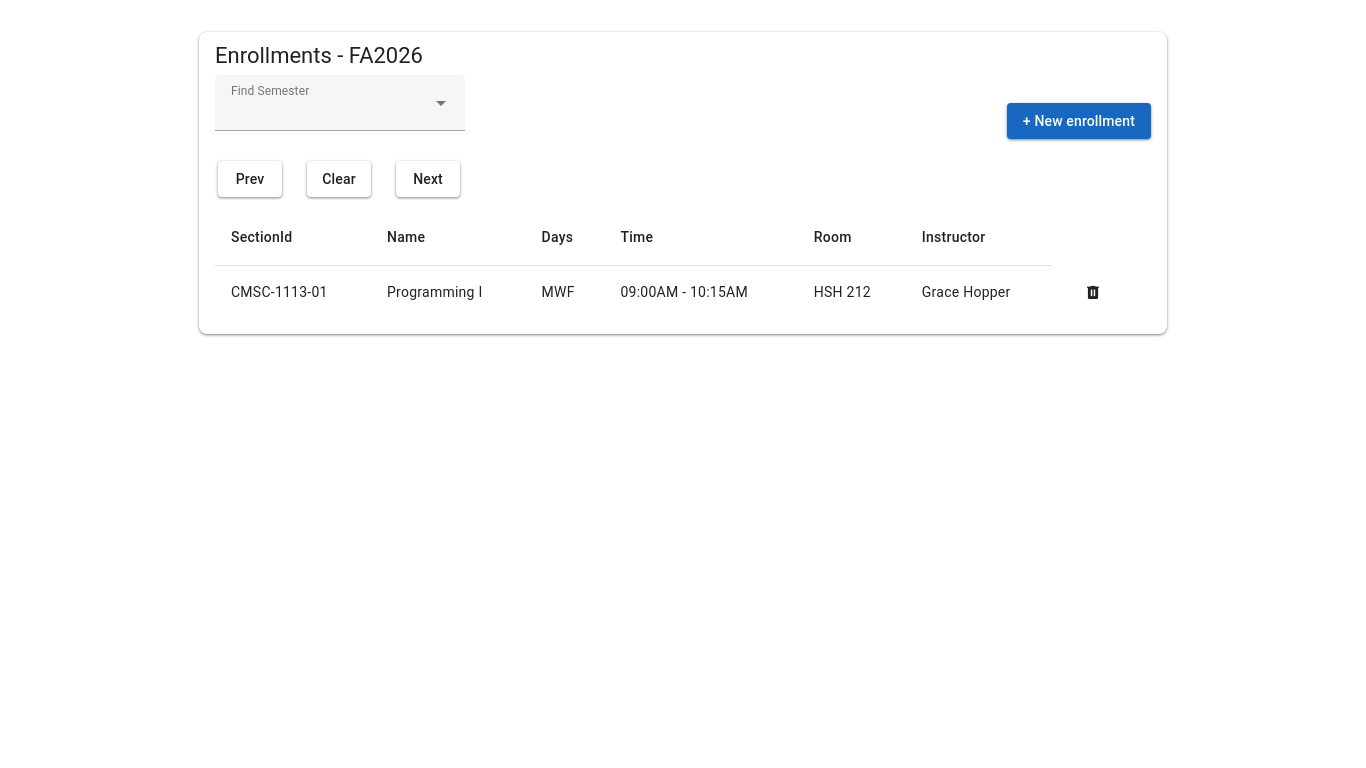
Feature 6 — Enrollment Management › US-6.4 — Remove Enrollment › Confirm delete icon
Click the button named "Delete enrollment" at (1093, 293), box [1084,284,1102,302]
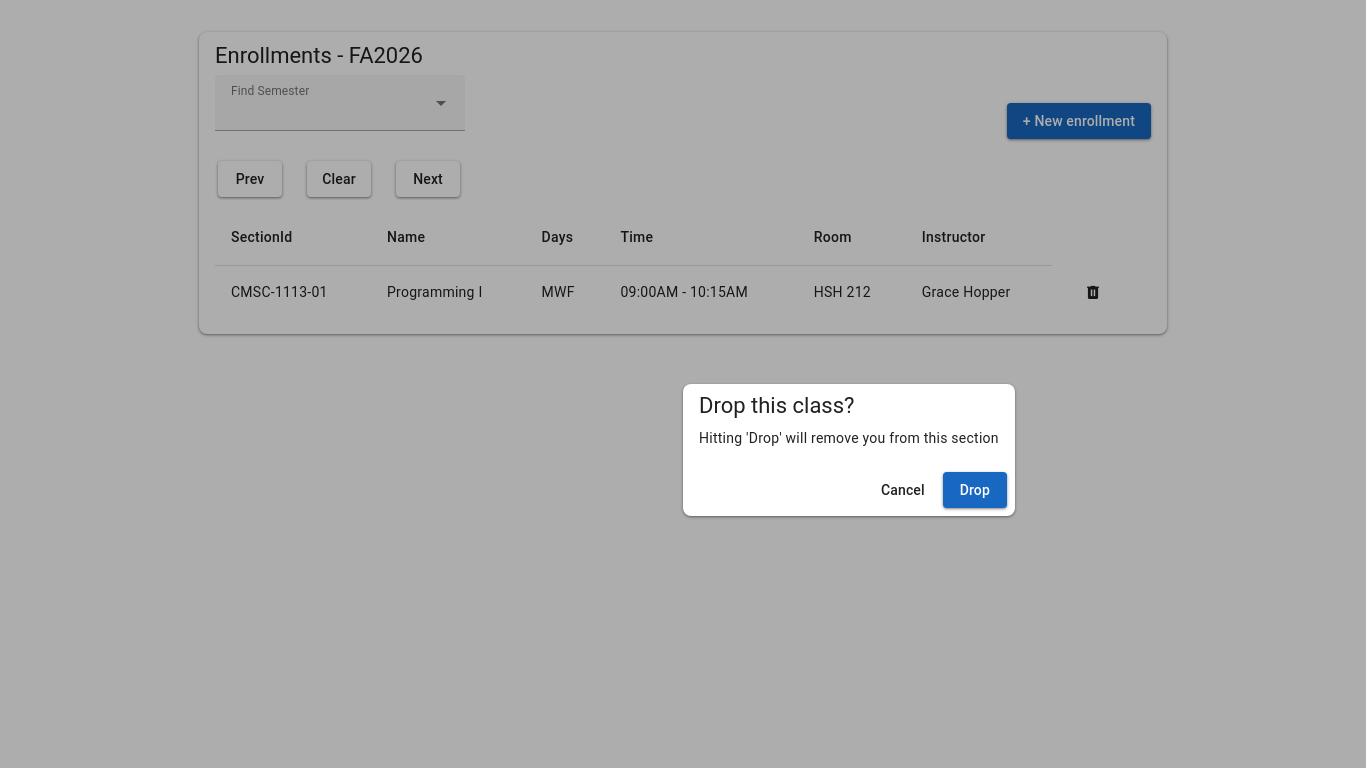
Click the button "Drop" at (975, 490), box [943,472,1007,508]
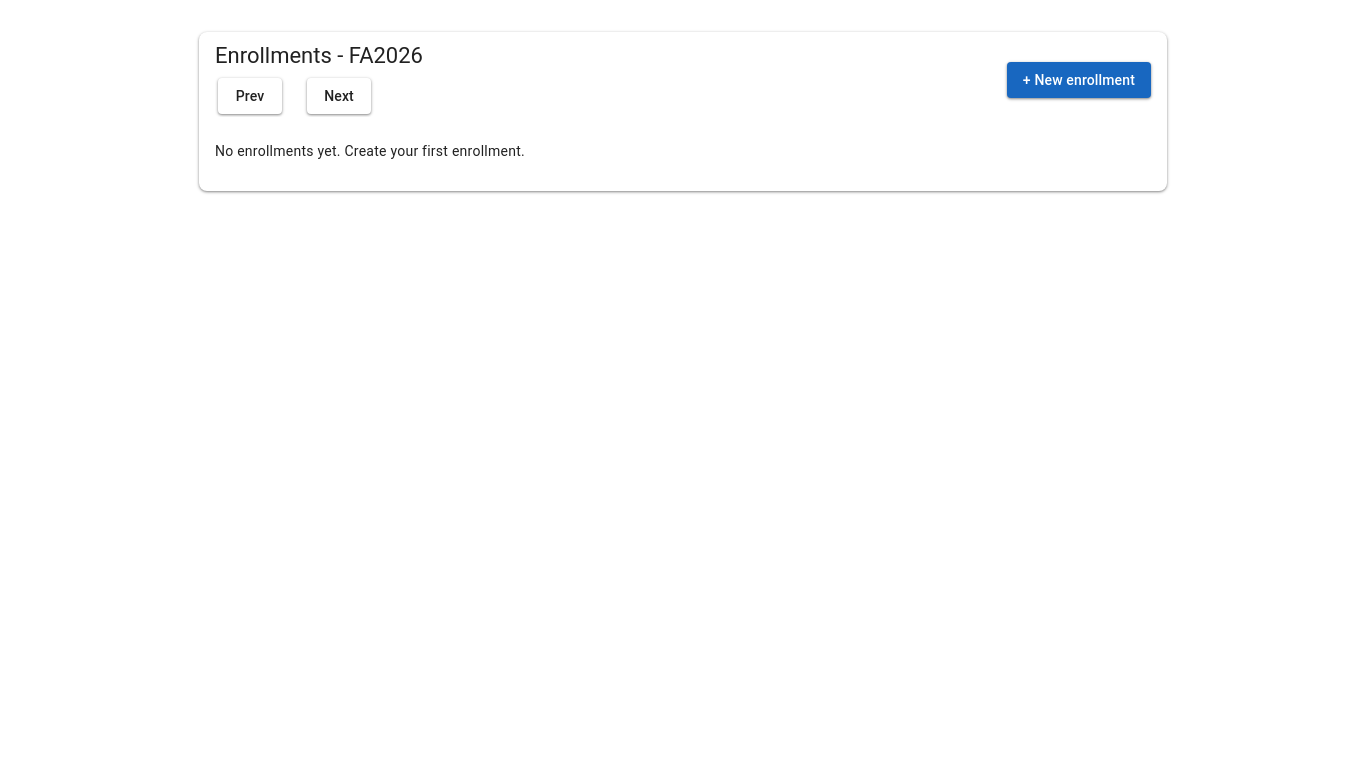
Now the text "CMSC-1113-01" is gone
